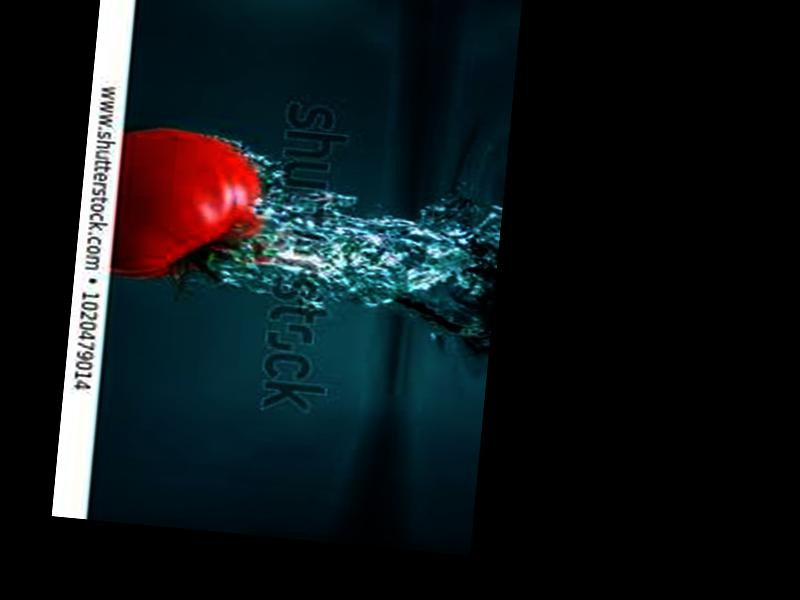Tomato: (110, 125, 268, 290)
